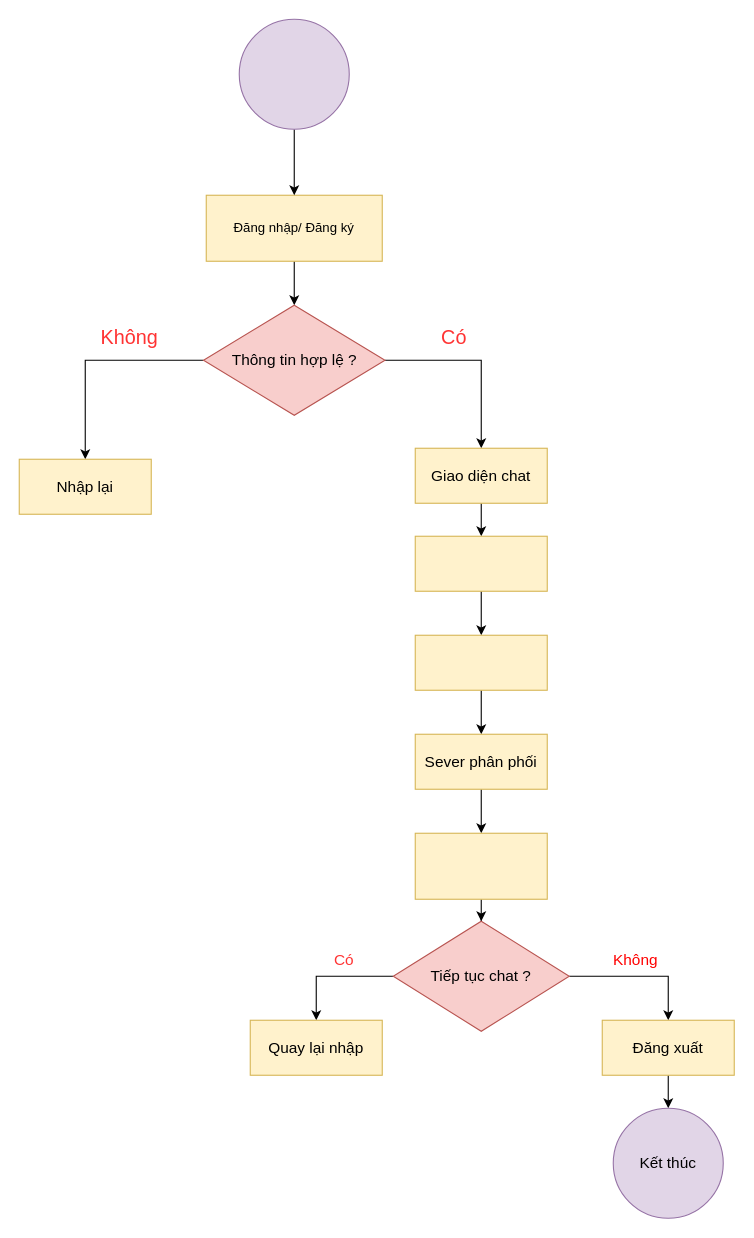
Image size: 754x1238. Some labels were removed from this diagram. Each missing label, with the centre of its shape:
"Bắt đầu" goes at point (293, 73).
"Gửi đến sever" goes at point (480, 662).
"Hiển thị tin nhắn" goes at point (480, 865).
"Nhập tin nhắn" goes at point (480, 563).
